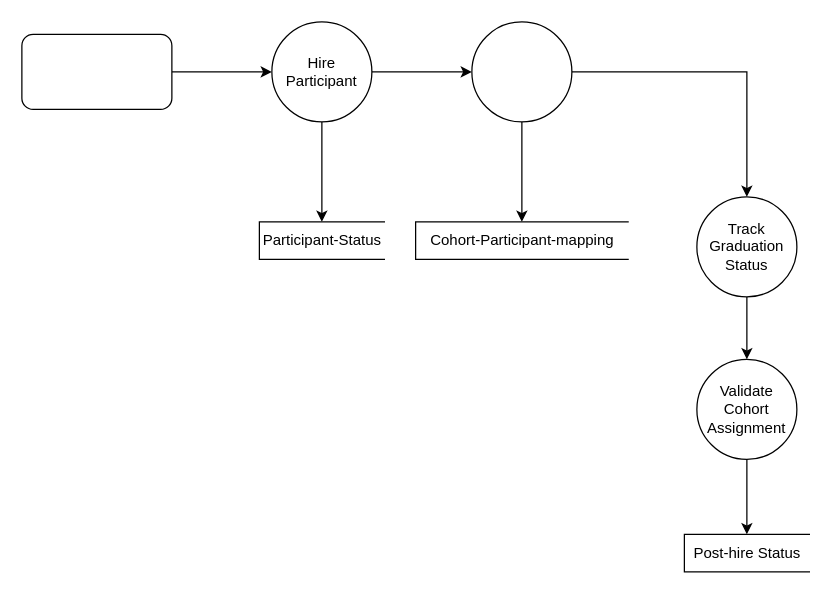
This 831x594 diagram has some shape labels left out. Here are the shapes that lost their labels. From the top down, the centre of each, then its label:
(x=96, y=71): HA
(x=521, y=71): Assign Cohort
